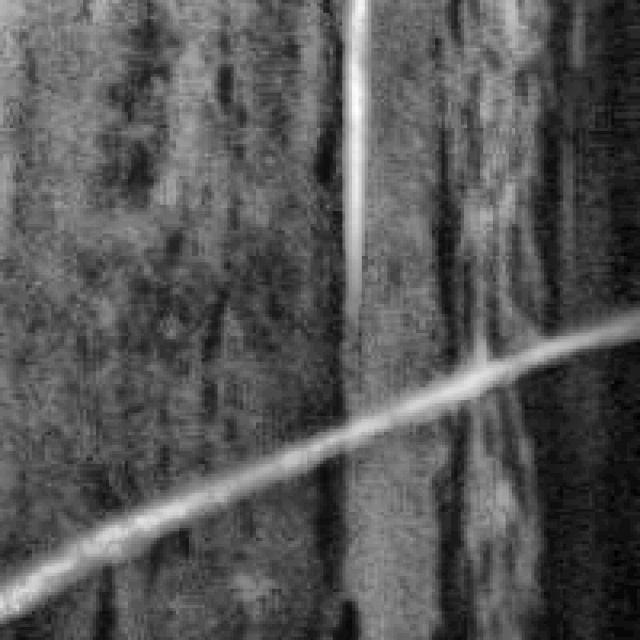Inclusion: (3, 316, 624, 618), (326, 0, 381, 304)
Patches: (422, 0, 636, 630)
